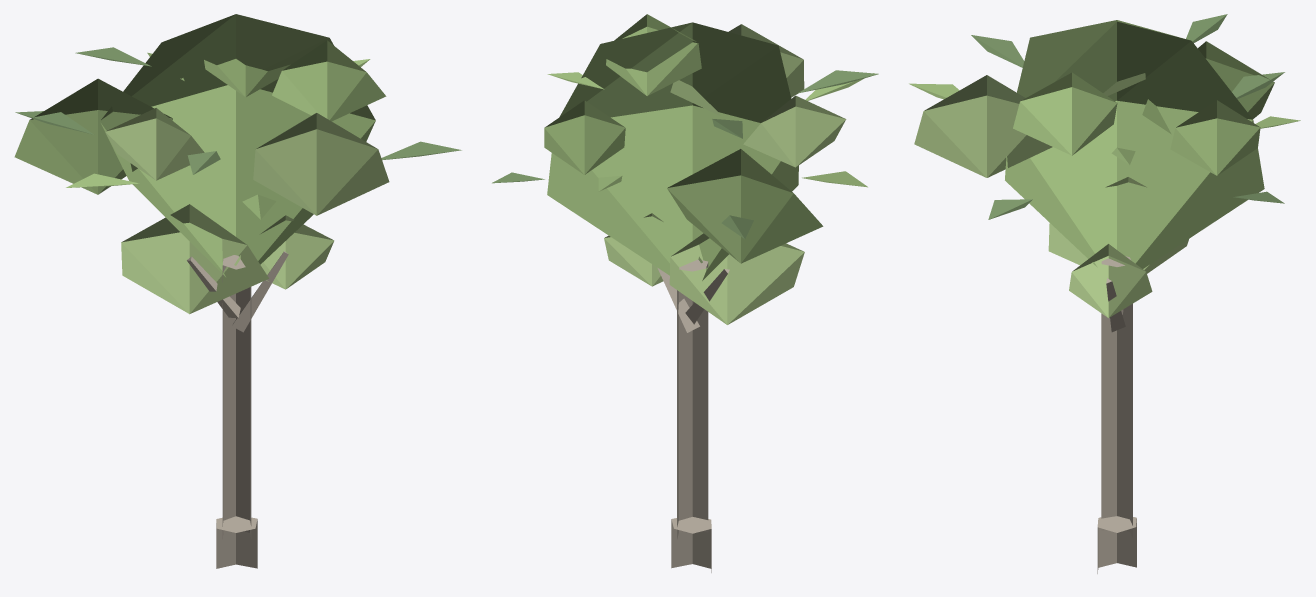
File: shu.chuizhi__spring.glb
3 renders of one model, left to right at view 1: azimuth 30°, elevation 25°; view 2: azimuth 150°, elevation 25°; view 3: azimuth 270°, elevation 25°, orthographic.
Parts seen in each view (by area): view 1: shu.chuizhi__spring; view 2: shu.chuizhi__spring; view 3: shu.chuizhi__spring.
Boxes of the visible parts, x1,y1,x2,y2 form: shu.chuizhi__spring: (14, 14, 461, 568); shu.chuizhi__spring: (492, 14, 878, 572); shu.chuizhi__spring: (909, 14, 1300, 573).
Bounding box in the file's own units: 6.6 × 10.27 × 6.62.
